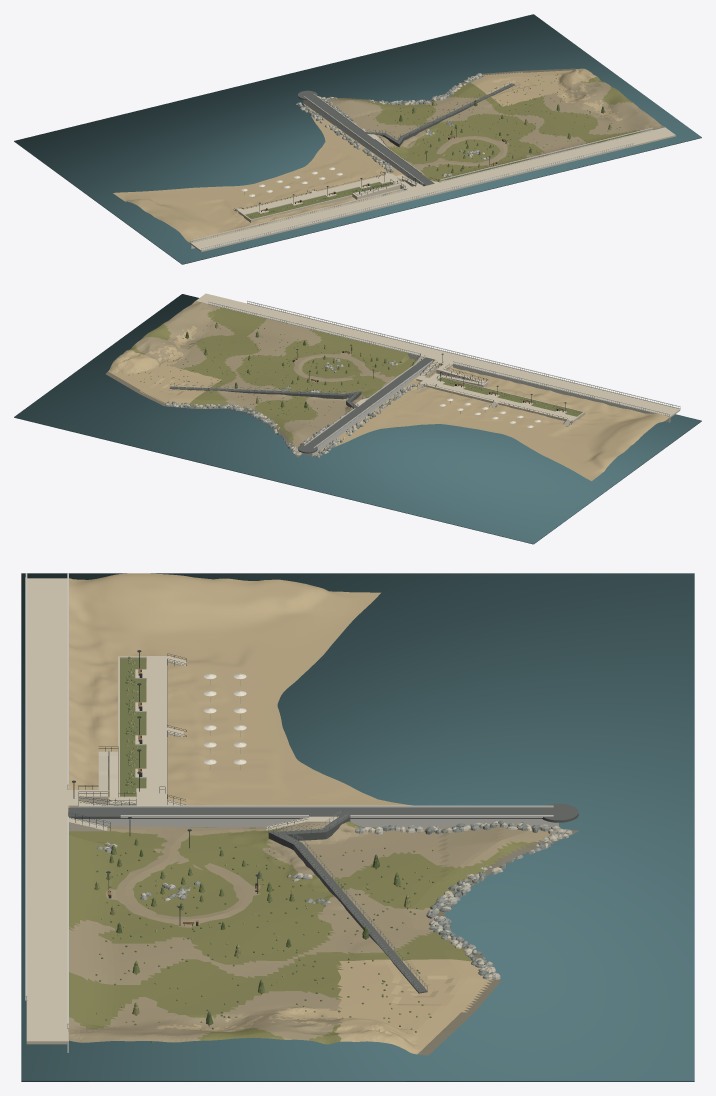
File: location2-3.glb
3 renders of one model, top to bottom at view 1: azimuth 30°, elevation 25°; view 2: azimuth 150°, elevation 25°; view 3: azimuth 270°, elevation 25°, orthographic. The views are drawn at different scales.
Visible parts, largest first — view 1: Море, Локация 3 | условный рельеф до урез, Локация 2 | условный рельеф до урез, Набережная | существующая мостова, Существующая каменная береговая н, Мол | существующий асфальт | 4 м, Plane, Прогулочная дорожка | 60 × 4 м, Озелененный откос | плавный перехо, Существующий проход | сохраненный, Набережная | существующий белый па, Набережная | существующий белый (+5 smaller); view 2: Море, Локация 3 | условный рельеф до урез, Локация 2 | условный рельеф до урез, Набережная | существующая мостова, Существующая каменная береговая н, Мол | существующий асфальт | 4 м, Plane, Существующий проход | сохраненный, Прогулочная дорожка | 60 × 4 м, Городская подпорная стенка, Озелененный откос | плавный перехо, Набережная | существующий белый (+6 smaller); view 3: Море, Локация 3 | условный рельеф до урез, Локация 2 | условный рельеф до урез, Набережная | существующая мостова, Plane, Мол | существующий асфальт | 4 м, Существующая каменная береговая н, Озелененный откос | плавный перехо, Основание существующего мола, Существующий проход | сохраненный, Прогулочная дорожка | 60 × 4 м, Поручни | новые и существующие (+3 smaller).
Boxes of the visible parts, box(x1,y1,x2,y2) form: Море: box(14, 14, 701, 264); Локация 3 | условный рельеф до урез: box(326, 68, 664, 182); Локация 2 | условный рельеф до урез: box(113, 103, 425, 242); Набережная | существующая мостова: box(191, 127, 675, 251); Существующая каменная береговая н: box(296, 73, 484, 172); Мол | существующий асфальт | 4 м: box(309, 97, 434, 185); Plane: box(405, 136, 508, 177); Прогулочная дорожка | 60 × 4 м: box(238, 178, 378, 215); Озелененный откос | плавный перехо: box(245, 182, 392, 219); Существующий проход | сохраненный: box(365, 83, 514, 146); Набережная | существующий белый па: box(190, 187, 407, 243); Набережная | существующий белый: box(201, 195, 418, 250); Море: box(14, 294, 701, 544); Локация 3 | условный рельеф до урез: box(106, 300, 416, 457); Локация 2 | условный рельеф до урез: box(313, 359, 669, 480); Набережная | существующая мостова: box(196, 293, 680, 417); Существующая каменная береговая н: box(165, 384, 415, 457); Мол | существующий асфальт | 4 м: box(308, 357, 434, 445); Plane: box(293, 352, 400, 387); Существующий проход | сохраненный: box(169, 386, 361, 408); Прогулочная дорожка | 60 × 4 м: box(437, 384, 577, 421); Городская подпорная стенка: box(453, 364, 670, 422); Озелененный откос | плавный перехо: box(437, 378, 582, 416); Набережная | существующий белый: box(463, 353, 680, 408); Море: box(21, 573, 694, 1081); Локация 3 | условный рельеф до урез: box(68, 821, 579, 1055); Локация 2 | условный рельеф до урез: box(68, 573, 412, 807); Набережная | существующая мостова: box(26, 578, 68, 1044); Plane: box(105, 826, 266, 927); Мол | существующий асфальт | 4 м: box(68, 807, 541, 818); Существующая каменная береговая н: box(355, 820, 572, 979); Озелененный откос | плавный перехо: box(120, 658, 146, 796); Основание существующего мола: box(74, 819, 558, 827); Существующий проход | сохраненный: box(268, 816, 427, 993); Прогулочная дорожка | 60 × 4 м: box(146, 656, 167, 788); Поручни | новые и существующие: box(78, 746, 427, 992).
Size of the model in its own units: 230 by 7.7 by 129.
